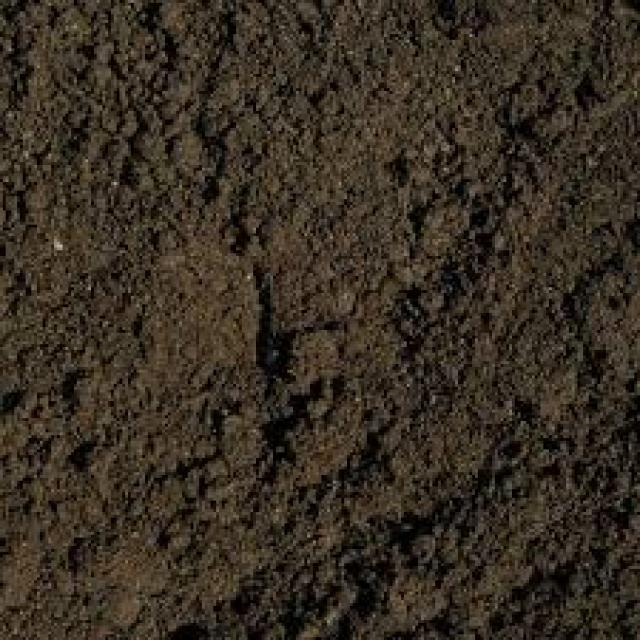Black Soil: (78, 55, 574, 560)
